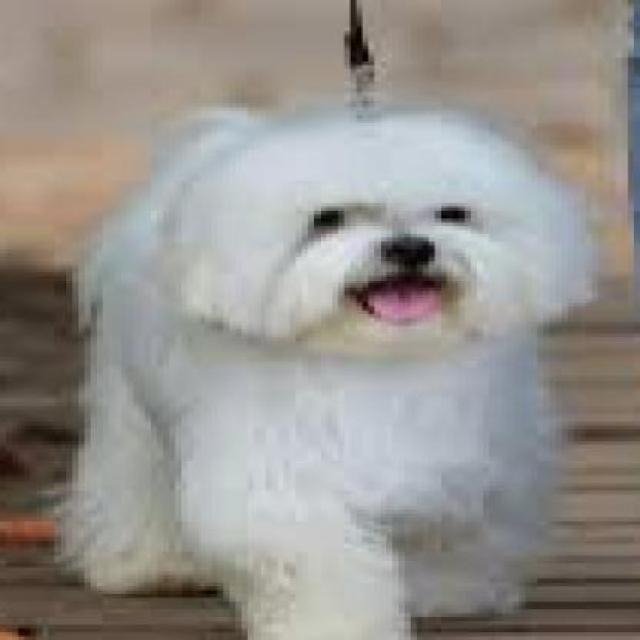Dog: (61, 62, 604, 636)
